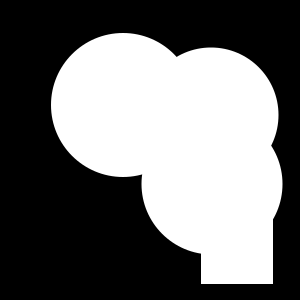circle: (201, 212, 273, 284)
rectangle: (51, 33, 195, 177), (142, 113, 282, 254), (144, 48, 278, 183), (64, 59, 156, 151)
